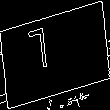L_S: (44, 27, 66, 83)
